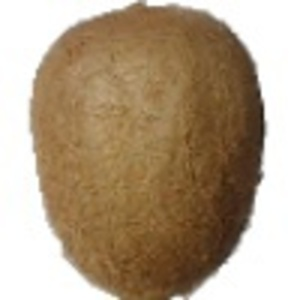kiwi: (27, 1, 266, 300)
